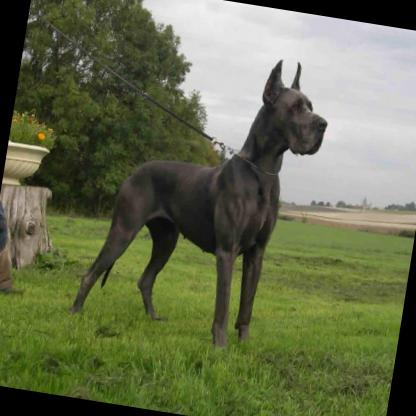Great_Dane: (68, 32, 335, 358)
